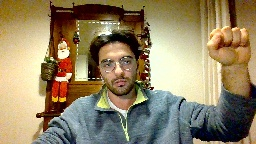Pugno: (204, 22, 253, 68)
